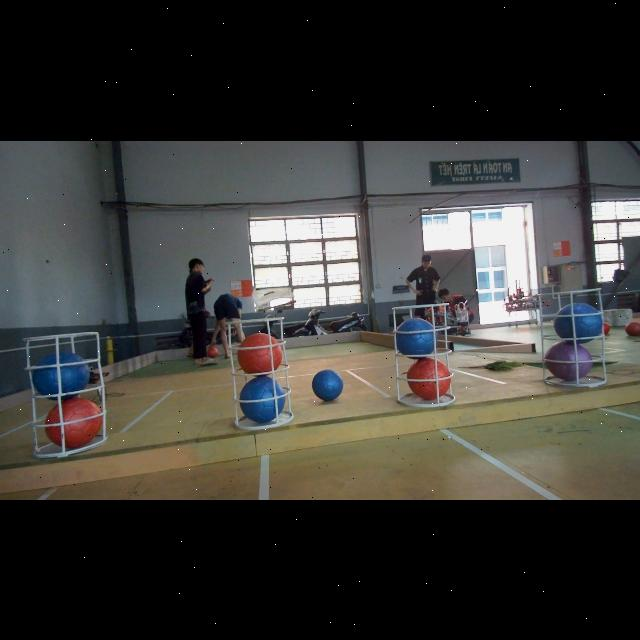B: (32, 350, 90, 400), (240, 376, 284, 424), (552, 302, 604, 342), (396, 317, 438, 358), (312, 369, 344, 403)
R: (45, 398, 101, 448), (405, 358, 451, 400), (238, 332, 282, 374)
